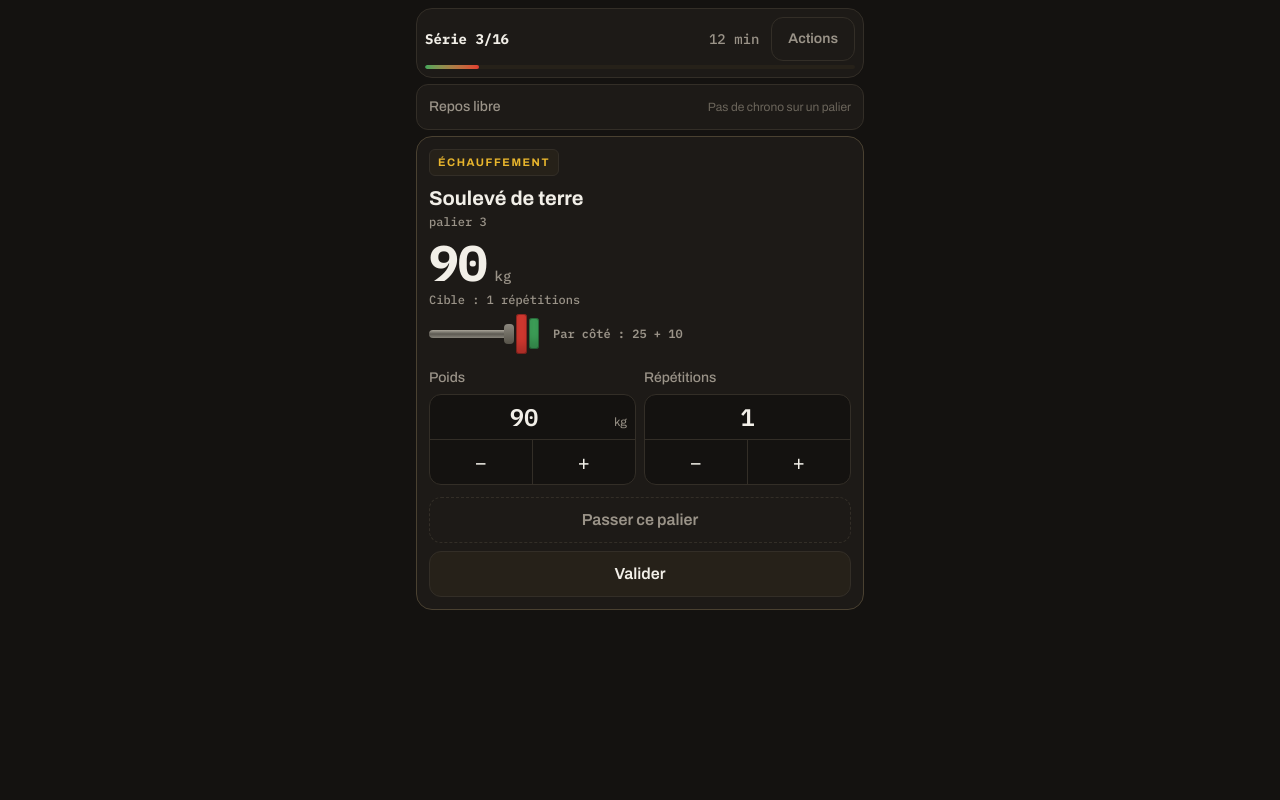
Scenario: SessionFocus › identifie un palier sauté quand il est relu
Click the button "Actions" at (813,39), box x1=771 y1=17 x2=855 y2=61
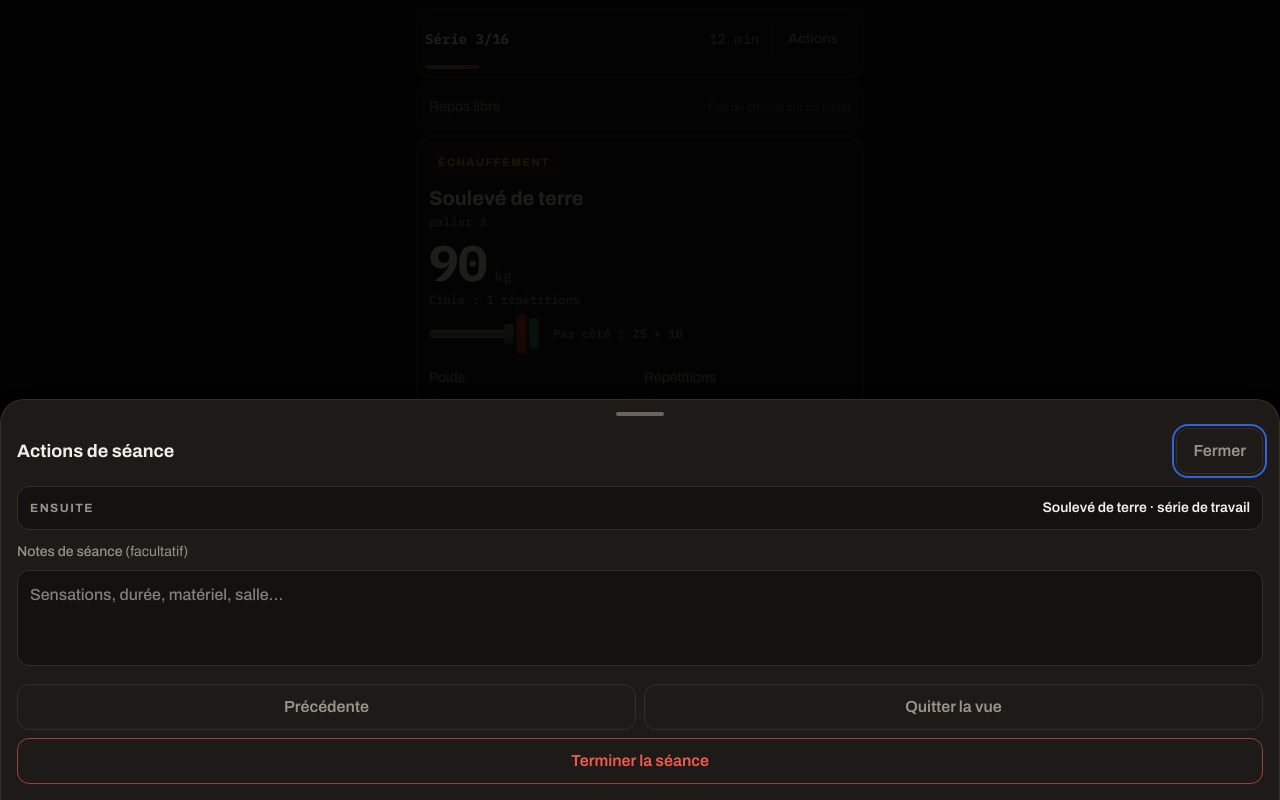
Click the button "Précédente" at (326,707), box x1=17 y1=684 x2=636 y2=730
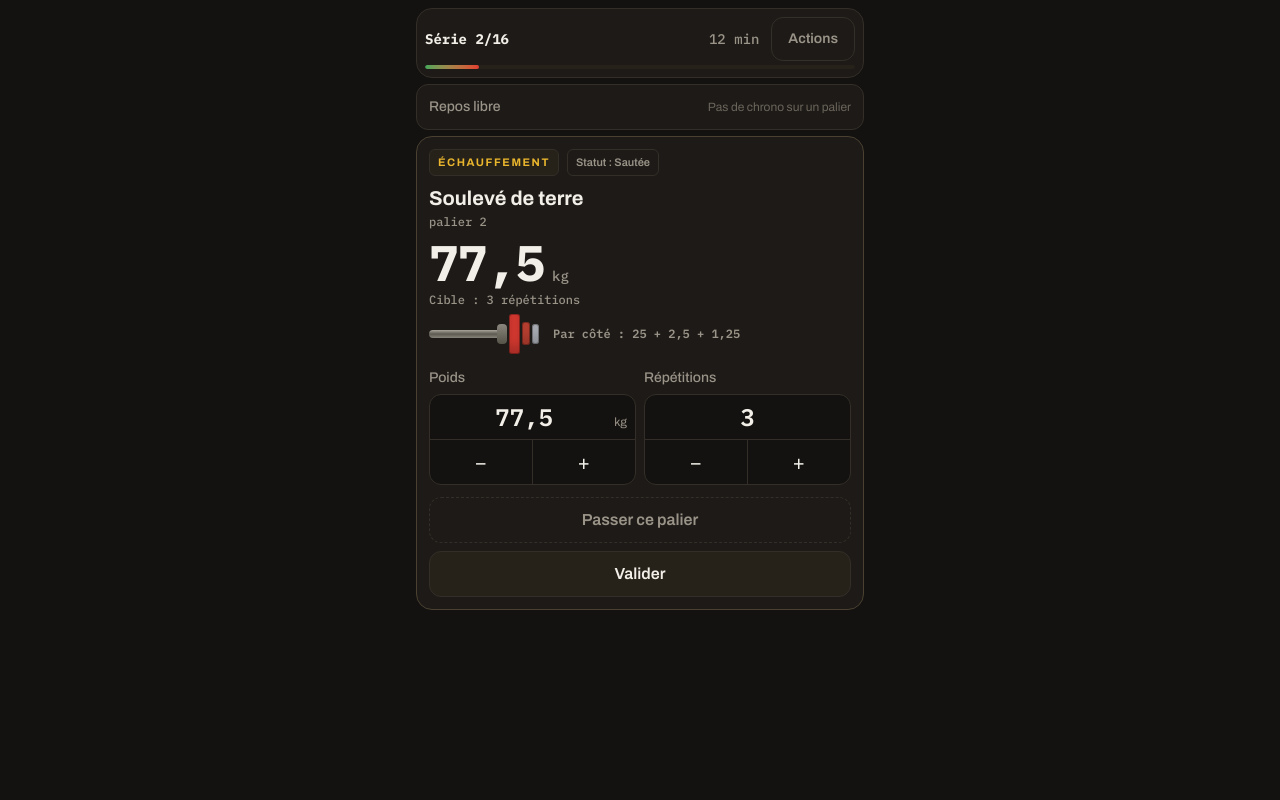
Check: the text "Statut : Sautée" is shown, box x1=567 y1=149 x2=659 y2=176
